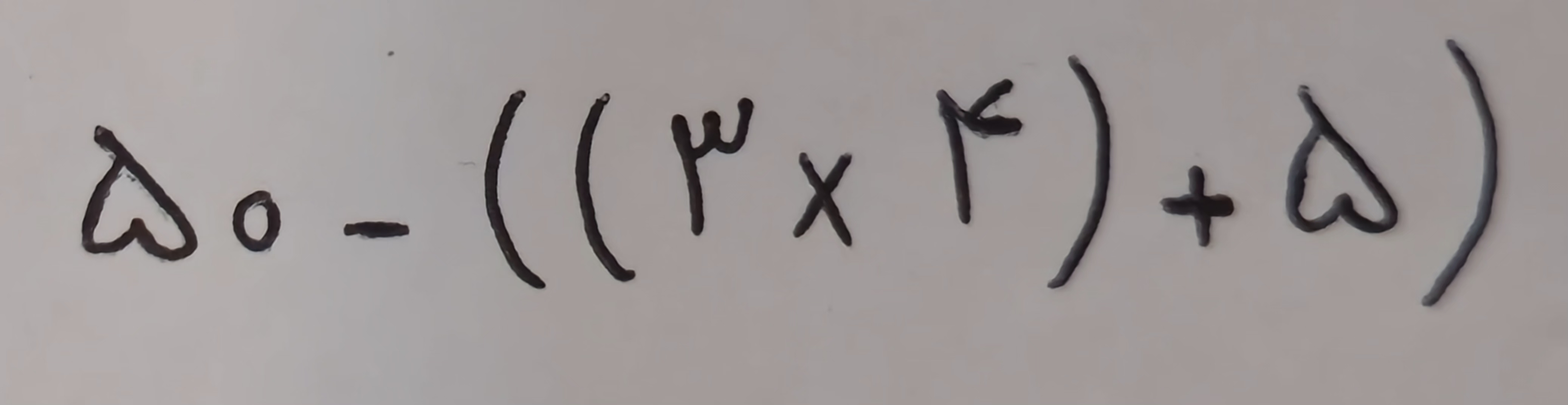character: (1421, 39, 1499, 308), (1285, 84, 1399, 234), (79, 124, 199, 263), (1047, 55, 1112, 290), (482, 89, 548, 290), (936, 79, 1025, 226), (575, 92, 638, 283), (670, 97, 756, 236), (1161, 166, 1236, 248), (792, 152, 854, 248), (231, 189, 283, 253), (343, 221, 410, 239)
